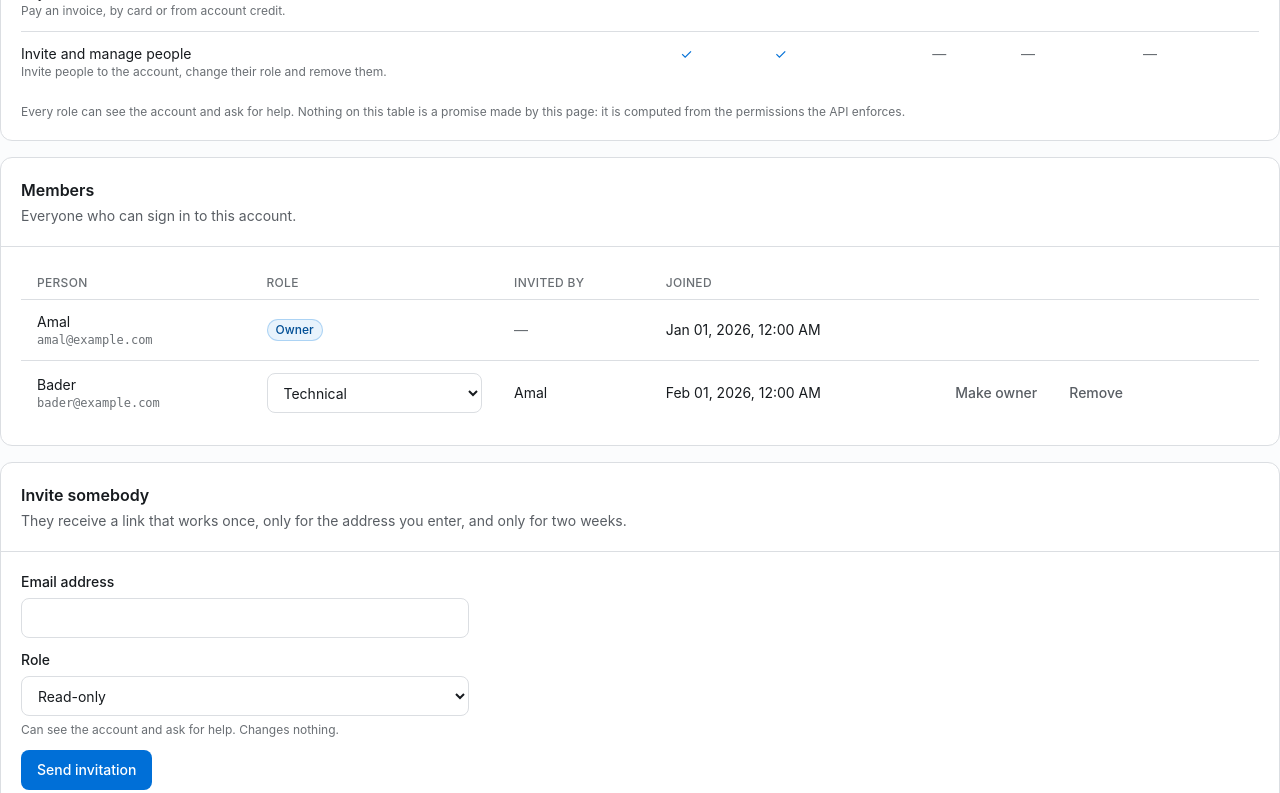
Scenario: changing a colleague’s role › sends nothing on the change event and states what the person gains and loses
(page scrolled)
Select "Billing" in the 1st dropdown at (374, 393), box [266,373,482,413]
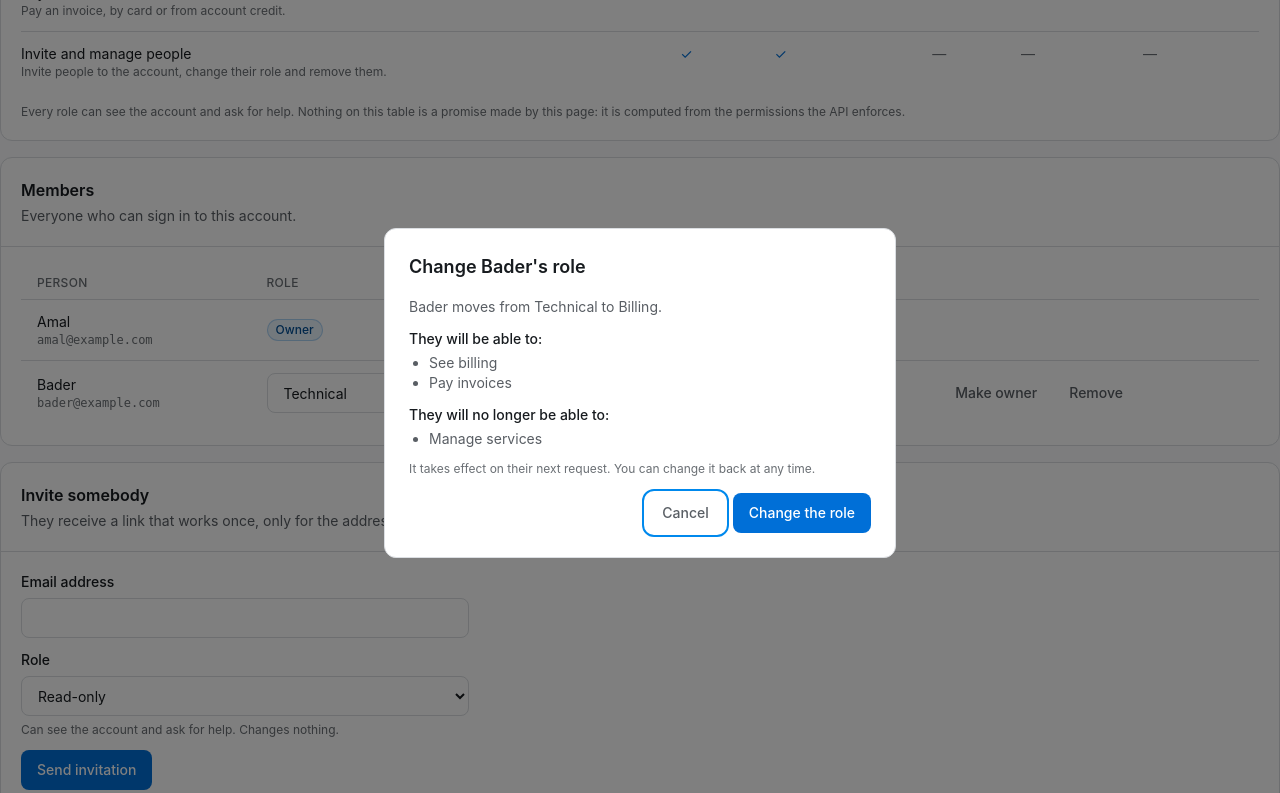
expect the heading "Change Bader's role" is shown: met, box [409,256,586,277]
expect the list item "See billing" is shown: met, box [429,354,497,371]
expect the list item "Pay invoices" is shown: met, box [429,374,512,391]
